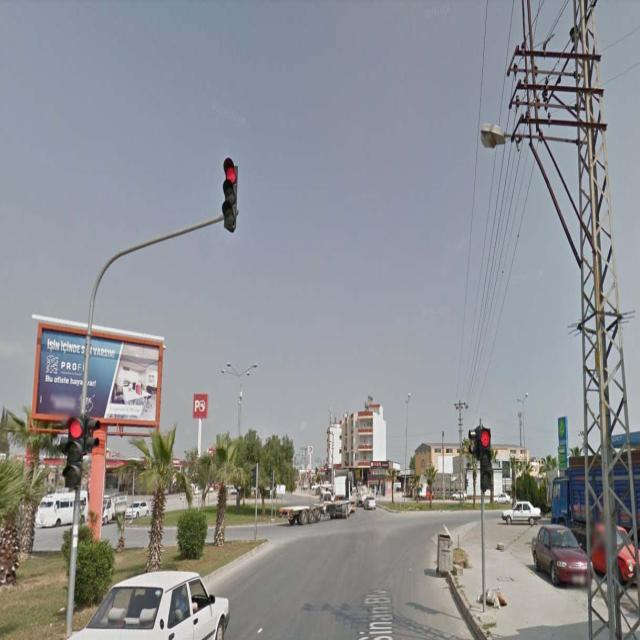kirmizi: (223, 162, 238, 229), (69, 418, 82, 484), (480, 428, 490, 489)
